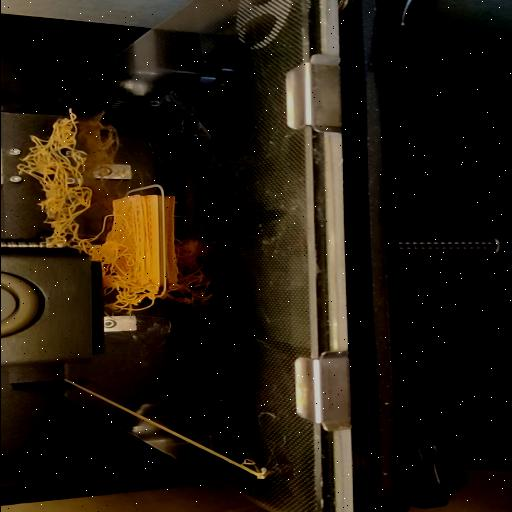spaghetti: (18, 106, 90, 250), (103, 220, 148, 317)
